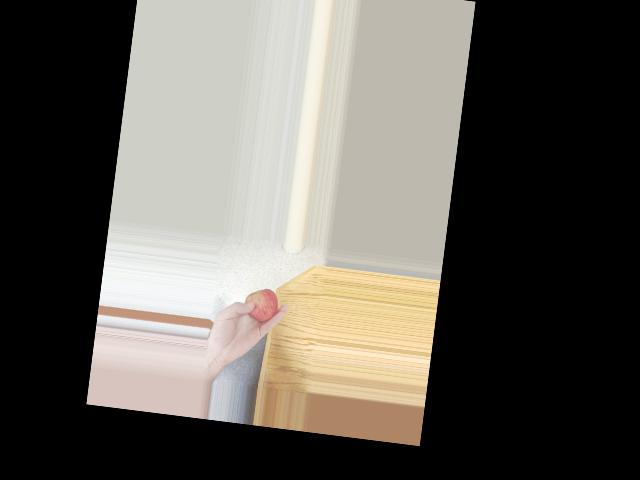apple: (238, 284, 280, 325)
